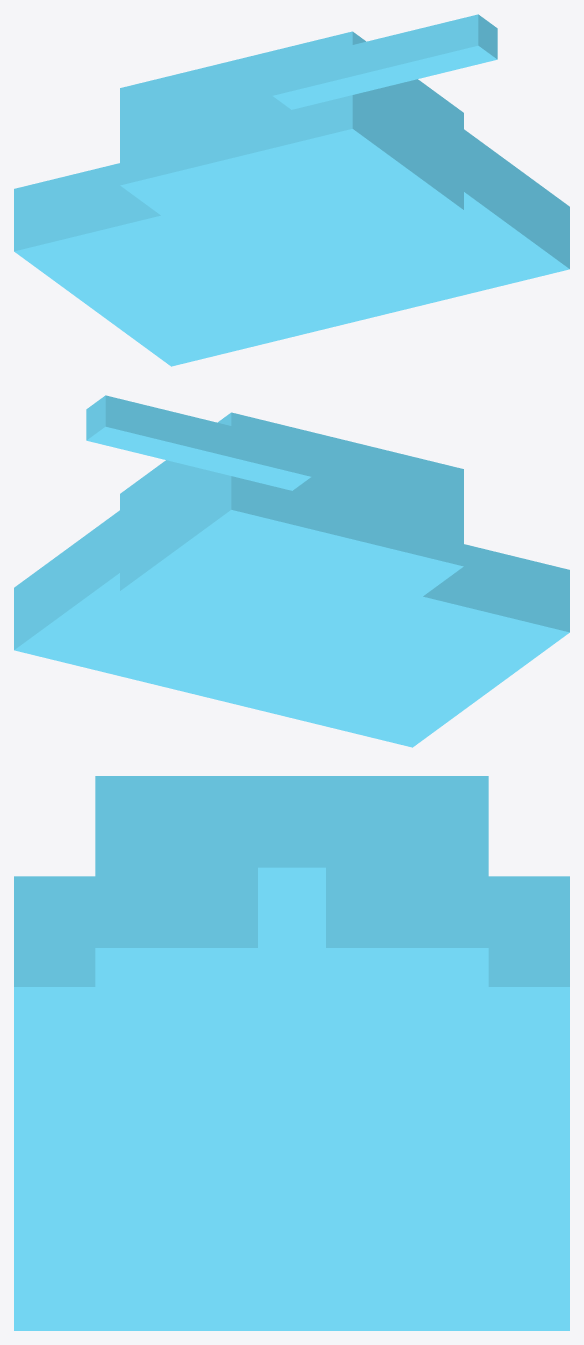
Rendered from unit-land.gltf.
3 views of the same model, one above another, from view 1: azimuth 30°, elevation 25°; view 2: azimuth 150°, elevation 25°; view 3: azimuth 270°, elevation 25° (orthographic). The views are drawn at different scales.
Parts seen in each view (by area): view 1: unit-land; view 2: unit-land; view 3: unit-land.
Part boxes in pixels (x1,y1,x2,y2): unit-land: (14,14,569,366); unit-land: (14,395,569,747); unit-land: (14,776,569,1330).
Size of the model in its own units: 1.2 by 0.55 by 0.82.
